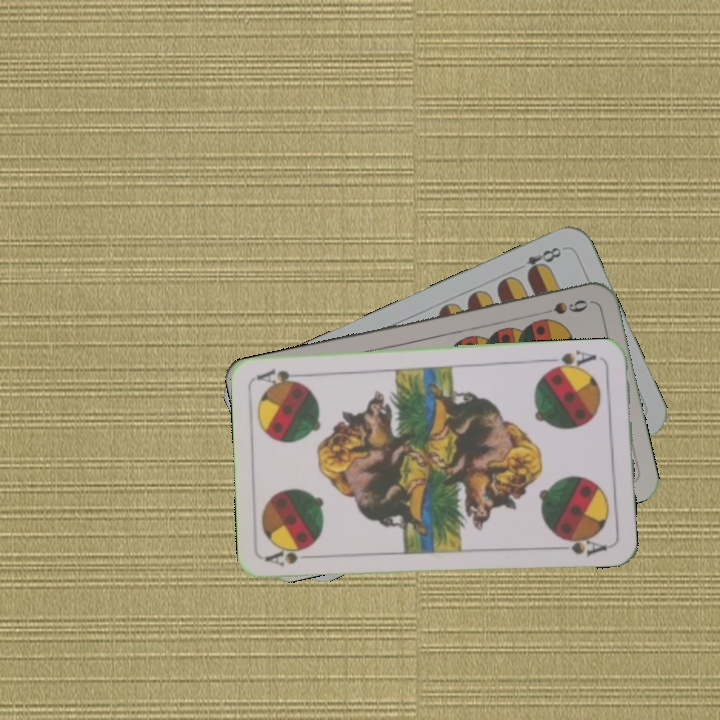E8: (522, 243, 564, 279)
S9: (533, 295, 591, 317)
SA: (262, 542, 321, 570), (545, 346, 599, 374)
